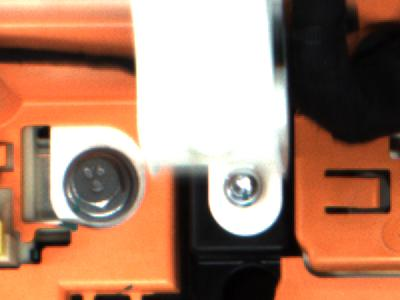nut_b: (62, 149, 140, 225)
